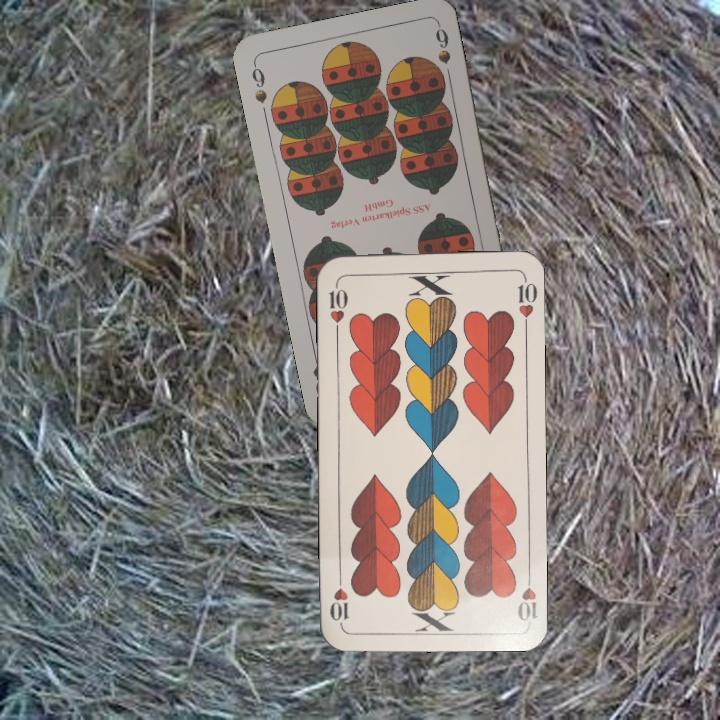H10: (513, 566, 539, 624), (325, 277, 350, 336)
S9: (248, 59, 270, 107)
